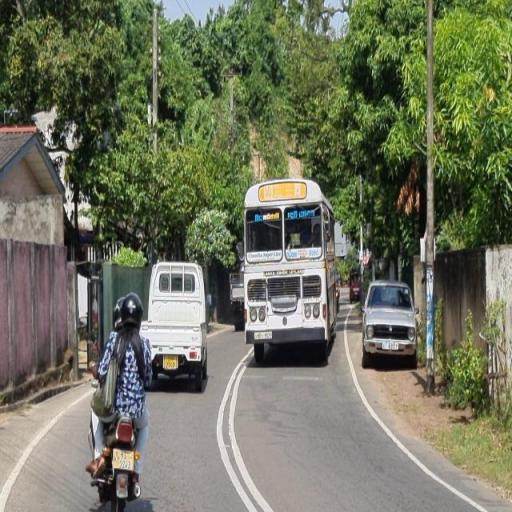double_white_line: (339, 317, 492, 510), (213, 351, 268, 512)
